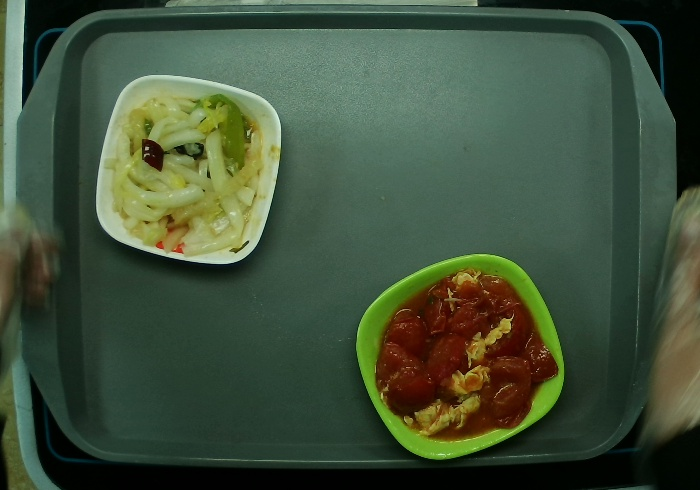SHKJ-Bai_Se_Xiao_Fang_Die: (95, 74, 282, 264)
SHKJ-Lv_Se_Cai_Die: (356, 253, 566, 461)
